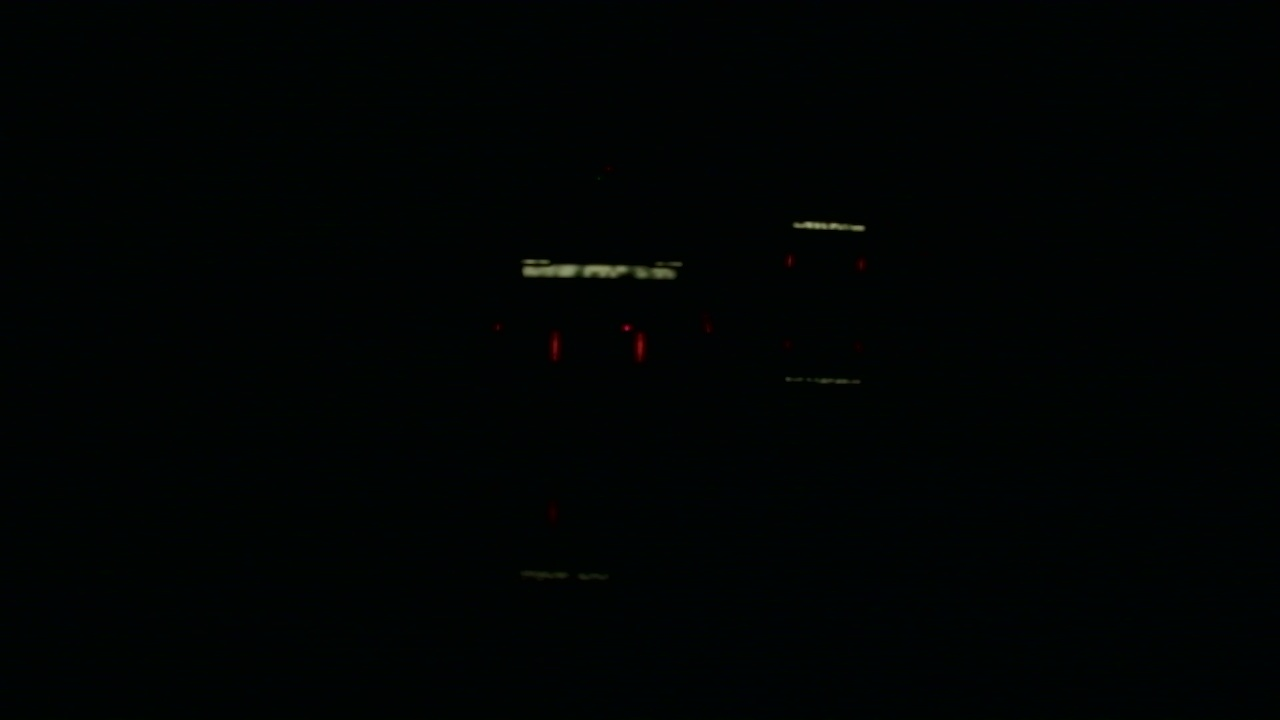lamp: (631, 331, 647, 363), (547, 332, 558, 361), (781, 251, 791, 269)
pair1: (552, 332, 644, 362)
pair2: (787, 253, 866, 272)
